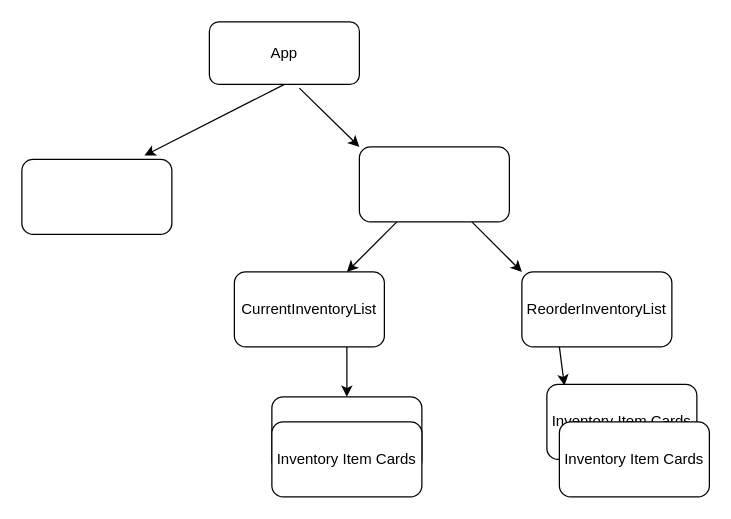
Some shapes in this 731 by 519 pixel diagram are drawn without their labels. Each missing label, with the centre of its shape:
Header: (x=96, y=196)
InventoryManager: (x=433, y=184)
